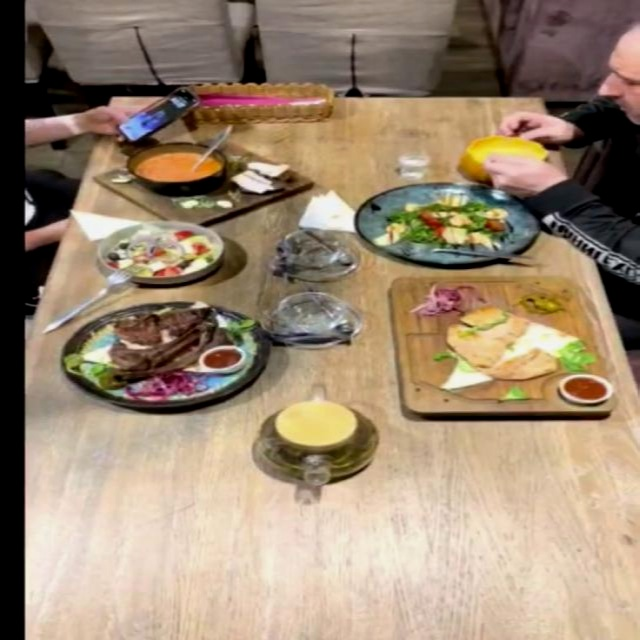meat: (384, 272, 624, 413), (61, 301, 274, 409)
salad: (359, 183, 545, 265), (95, 220, 225, 285)
soup: (97, 143, 323, 228), (462, 136, 550, 183)
tea: (236, 389, 392, 495)
